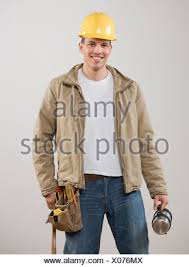Person_wearing_helmet: (70, 8, 122, 53)
